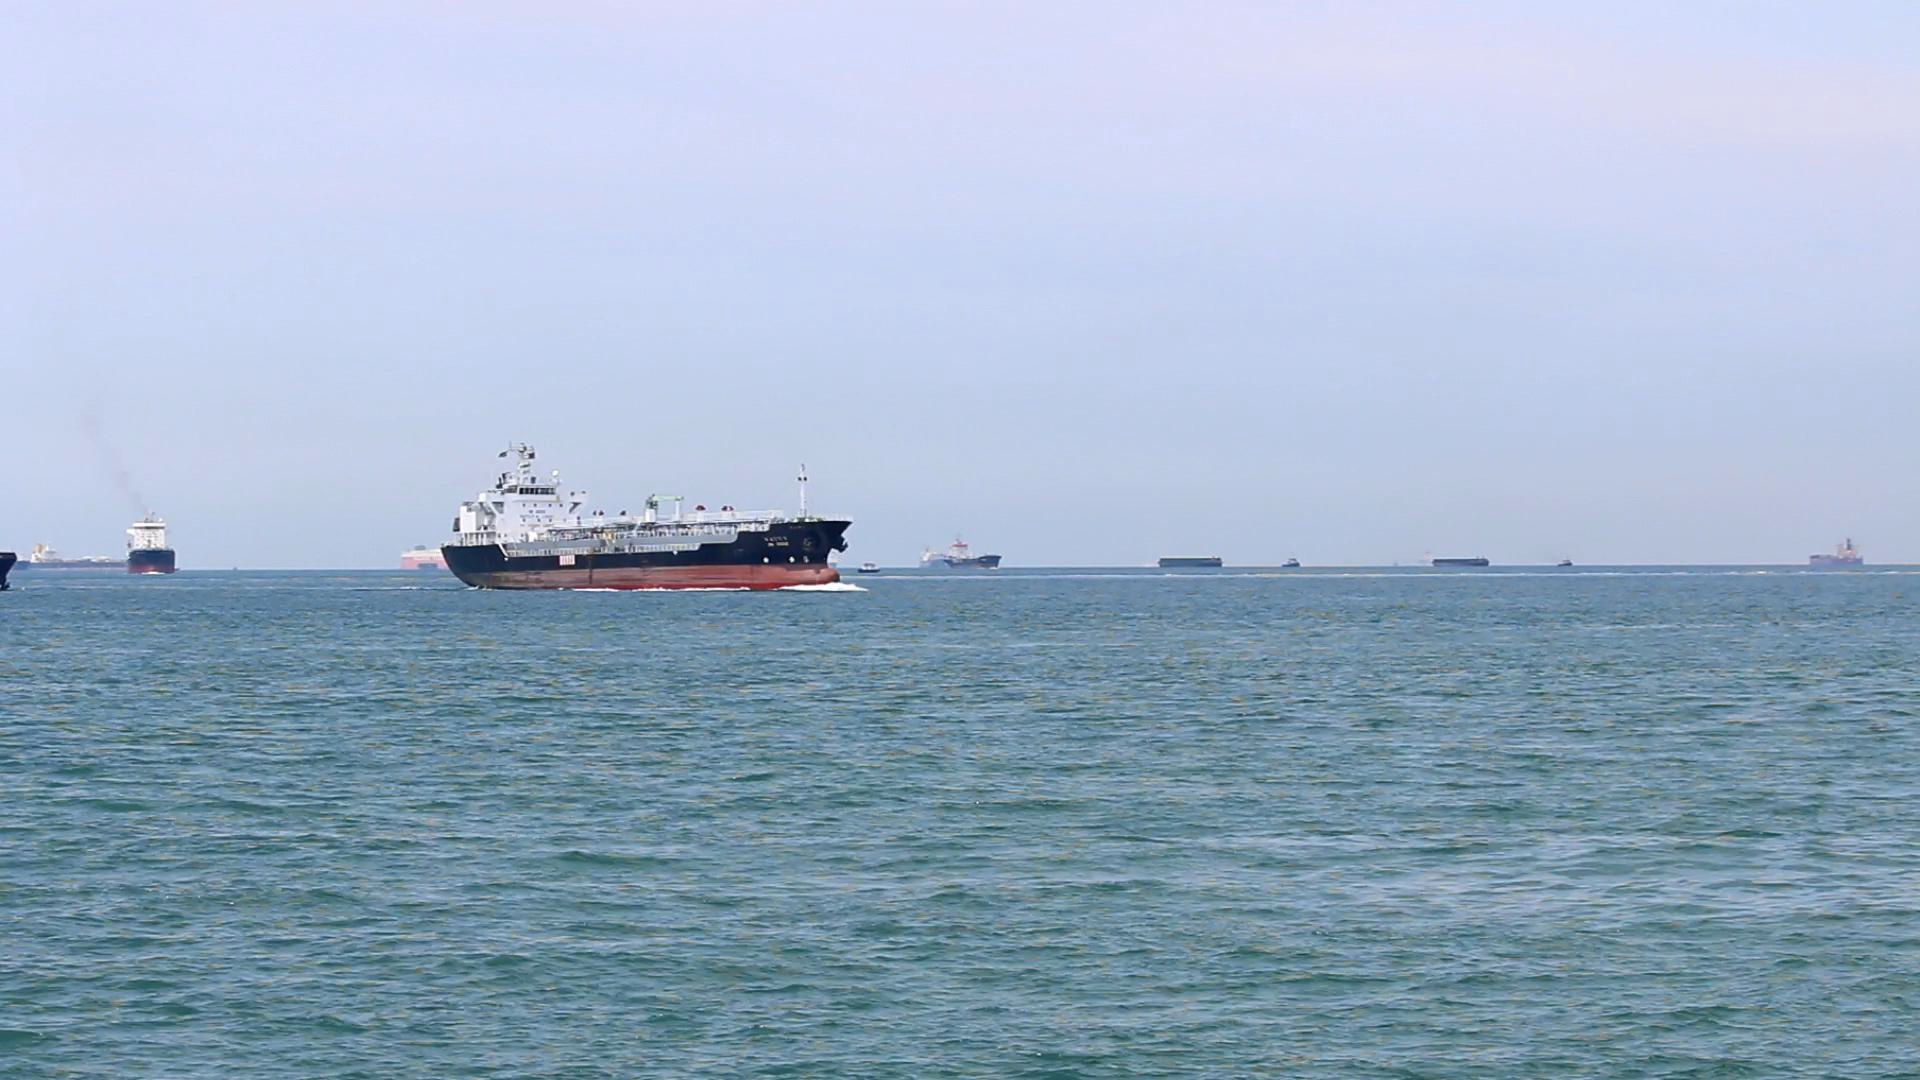Container Ship: (436, 434, 861, 599), (15, 541, 128, 575), (129, 514, 183, 579), (920, 537, 1007, 572), (1805, 529, 1875, 571)
